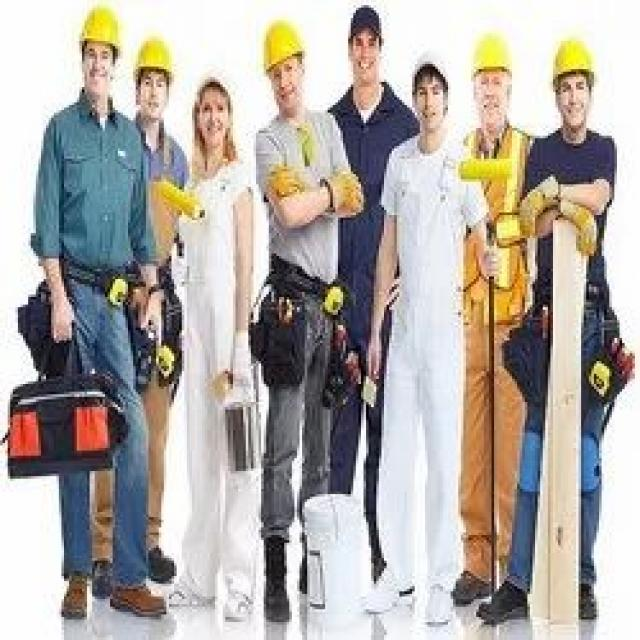Safety-Helmet: (253, 12, 310, 72), (463, 23, 517, 77), (74, 3, 128, 51), (128, 28, 177, 77), (545, 36, 599, 79)
